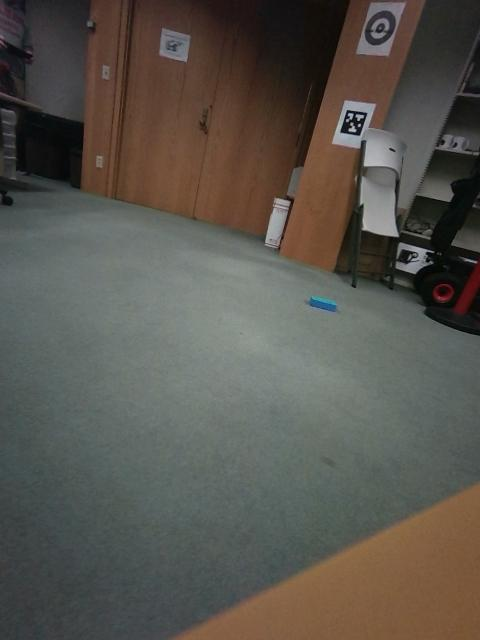block: (104, 331, 152, 410)
